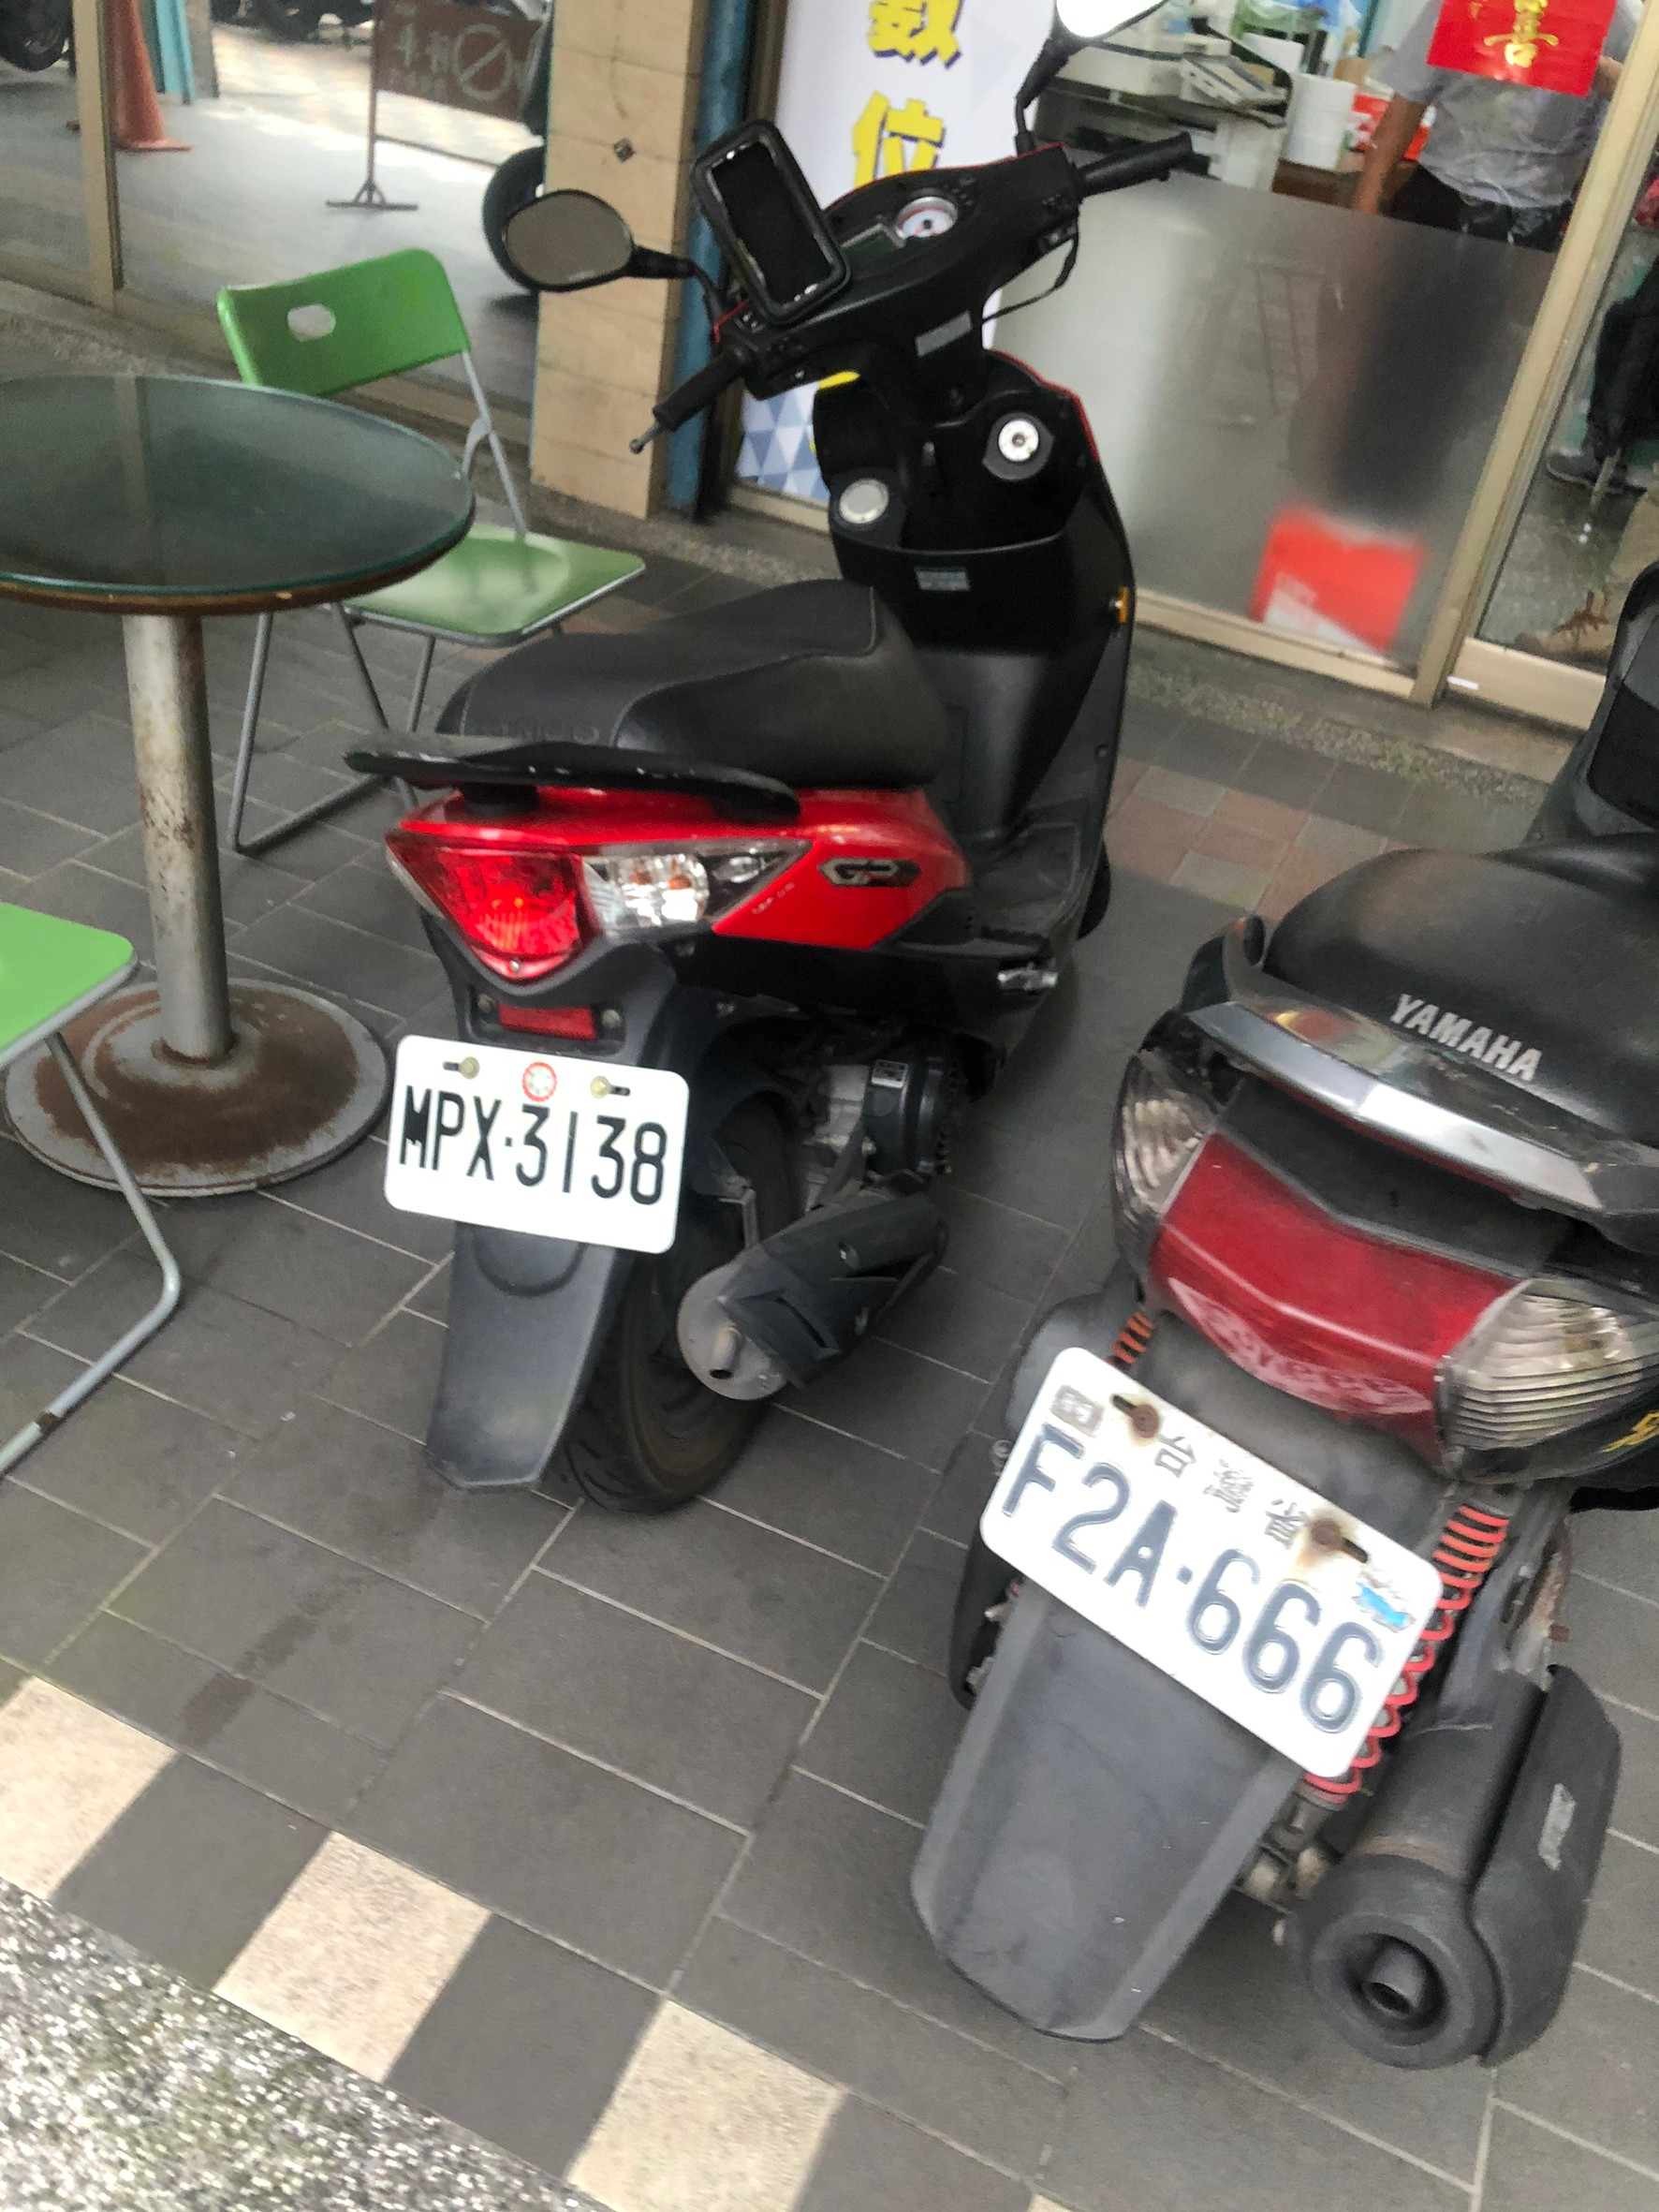LP: (964, 1403, 1420, 1738), (396, 1051, 683, 1239)
